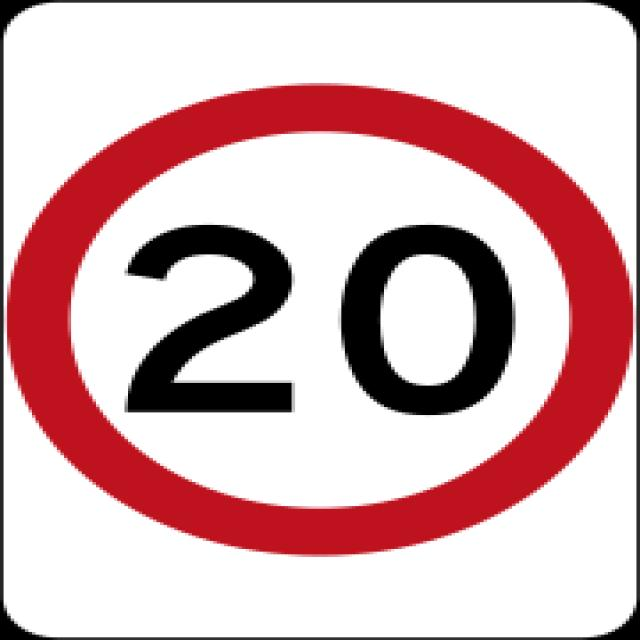Speed Limit -20-: (113, 223, 517, 420)
